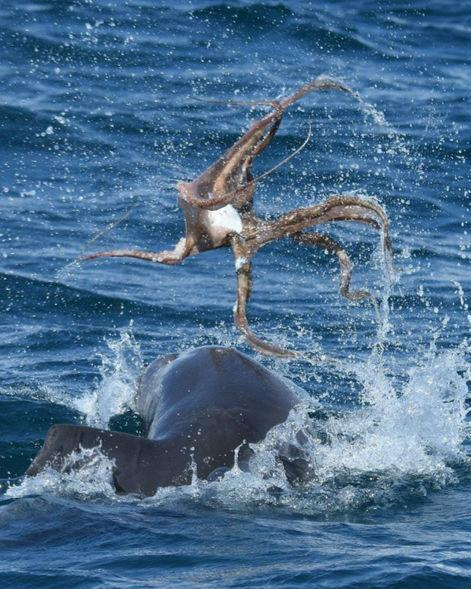fish: (30, 346, 317, 502)
